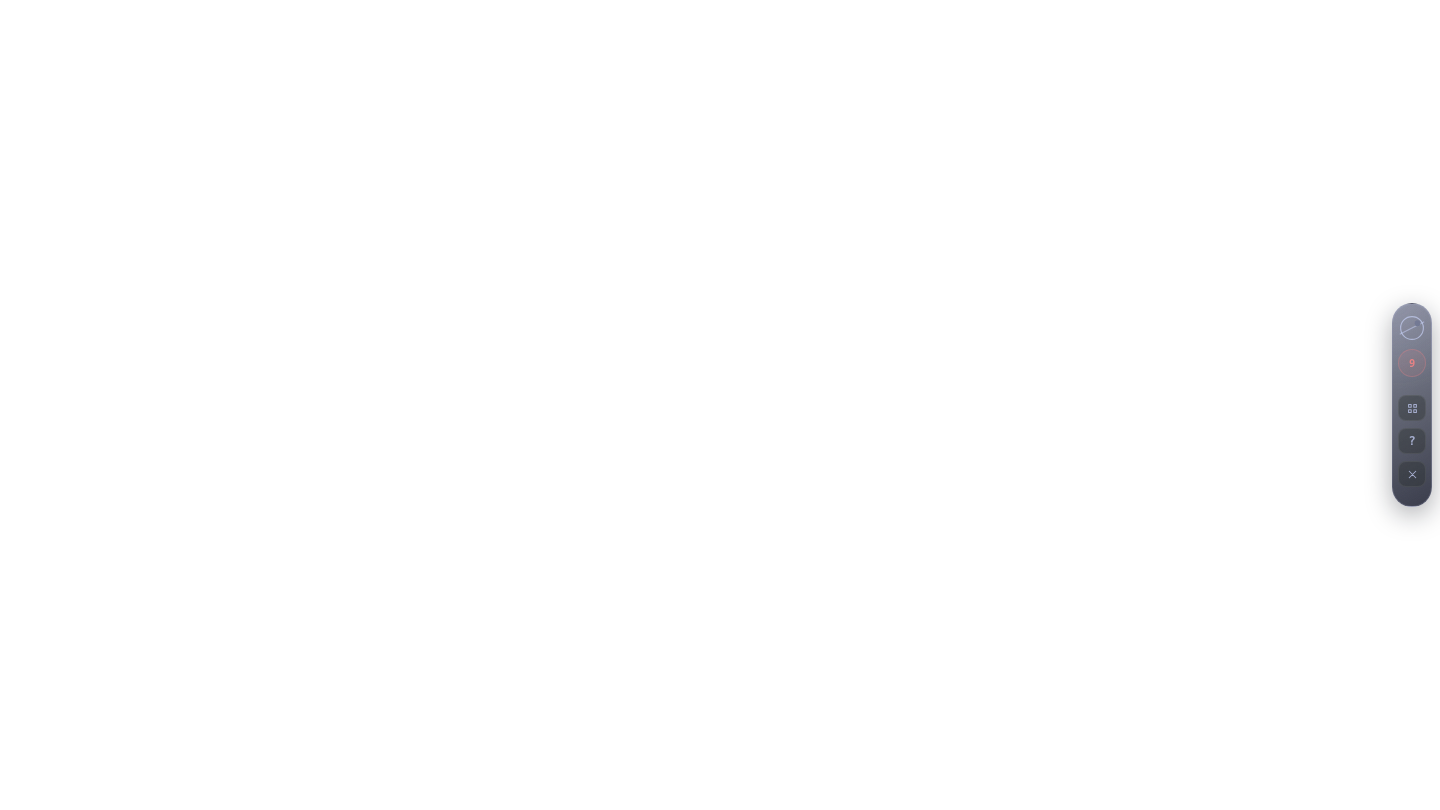
Test: summoned hud › navigates the attention list into a terminal and back
Click the button named "need you" at (1412, 363), box [1398, 349, 1426, 377]
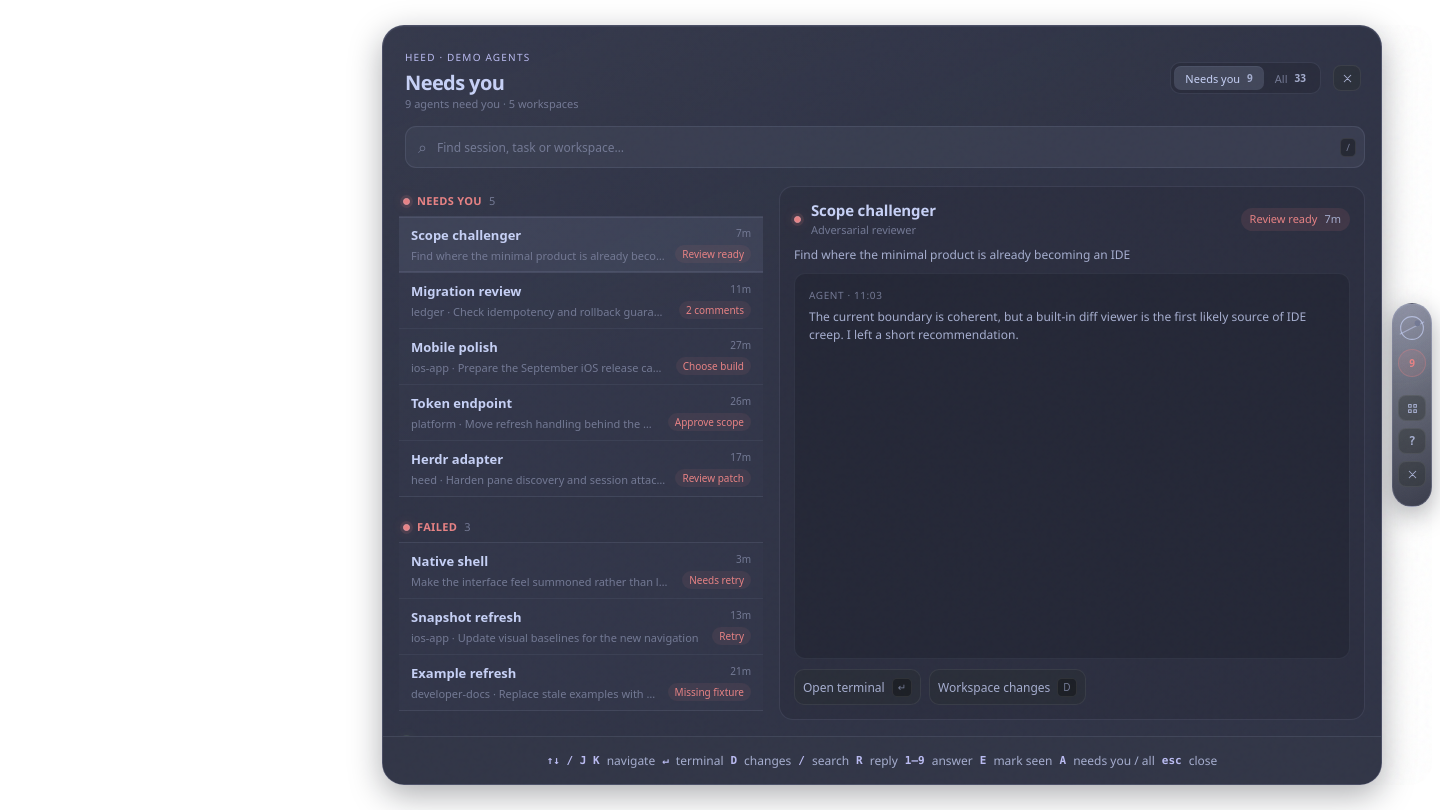
Now the button with class "is-selected" is shown, box [399, 217, 763, 273]
Press ArrowDown in the element "Needs you"
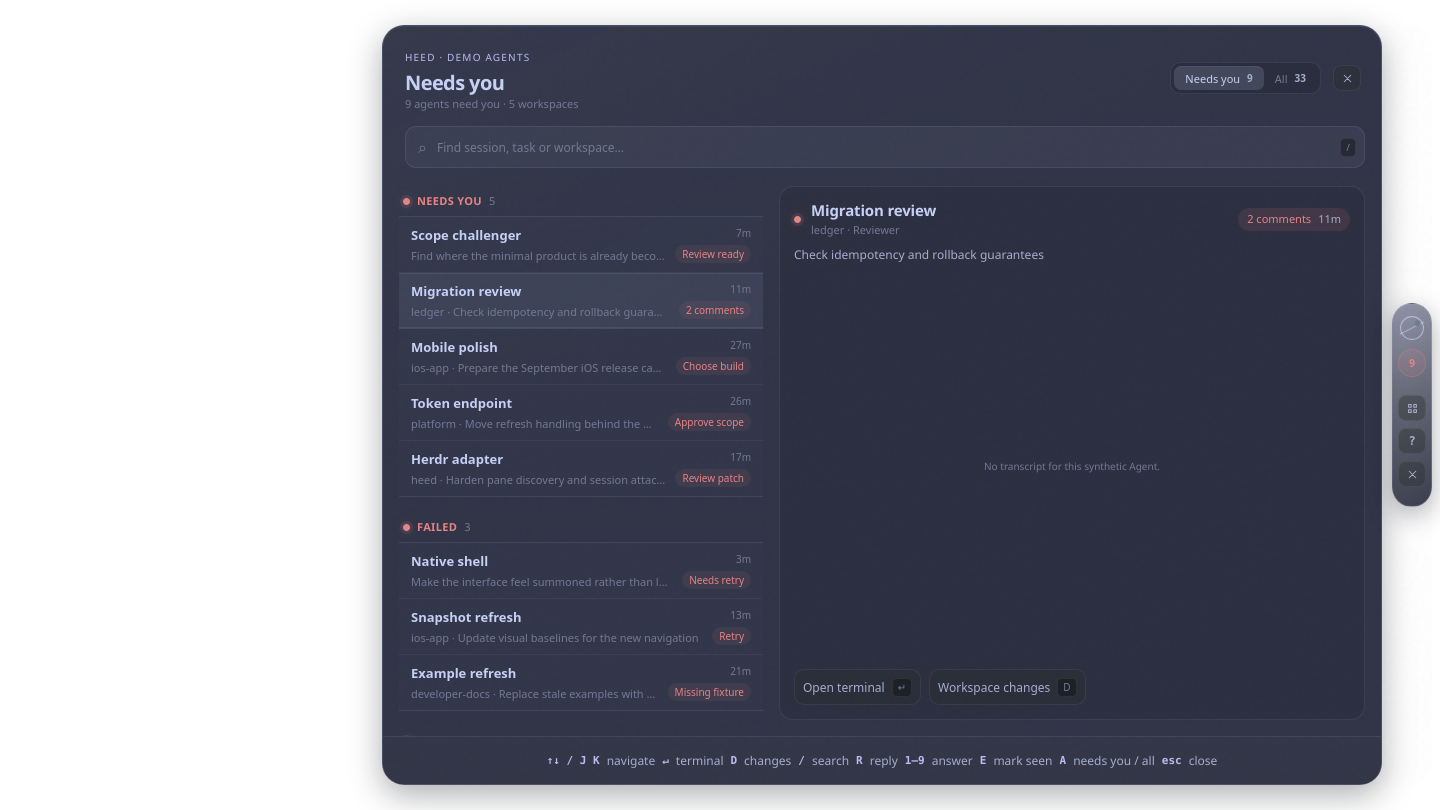
Press Enter in the element "Needs you"
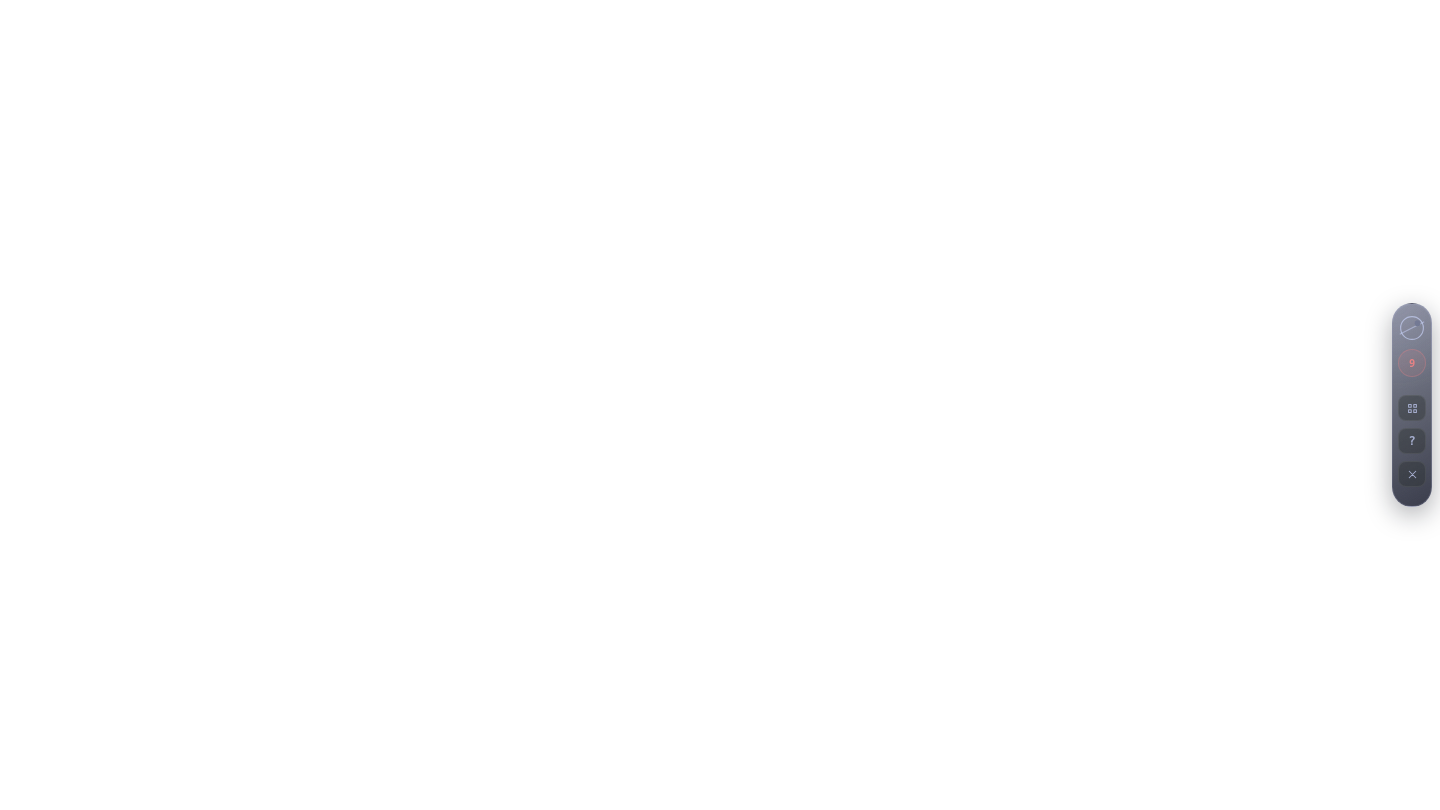
Press w
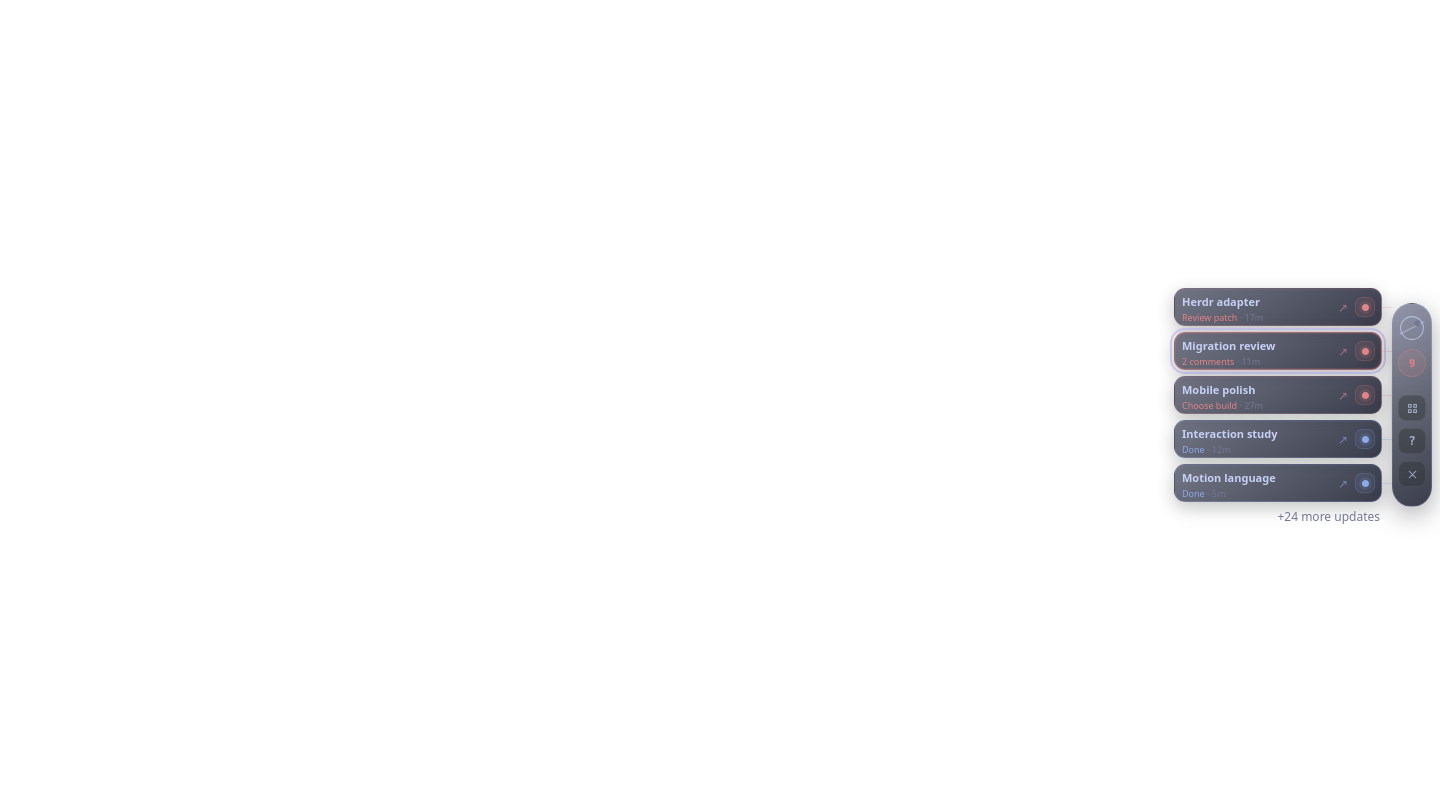
Now the element named "Conversation updates" is shown, box [1174, 289, 1382, 521]
Press f
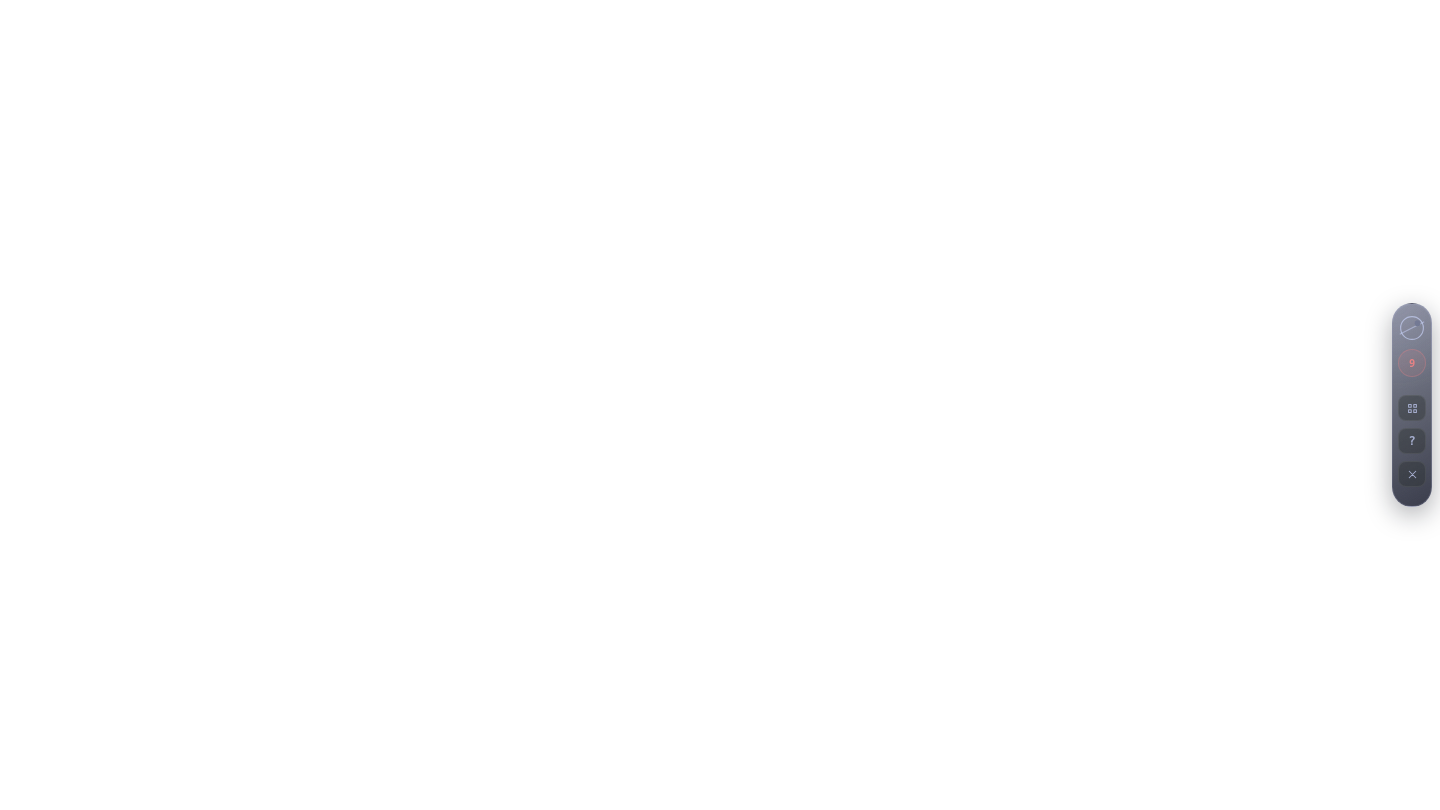
Press Escape
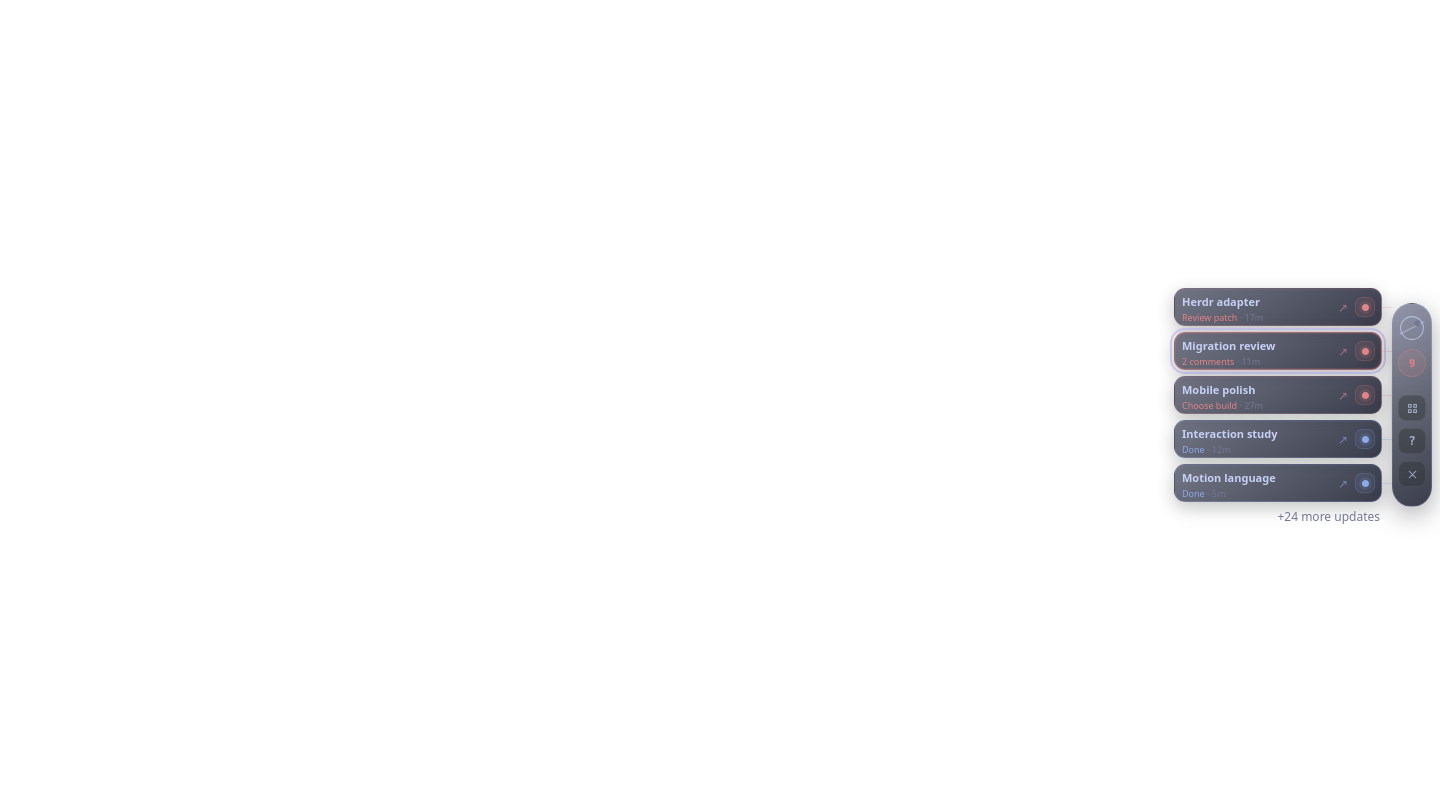
Now the element named "Conversation updates" is shown, box [1174, 289, 1382, 521]
